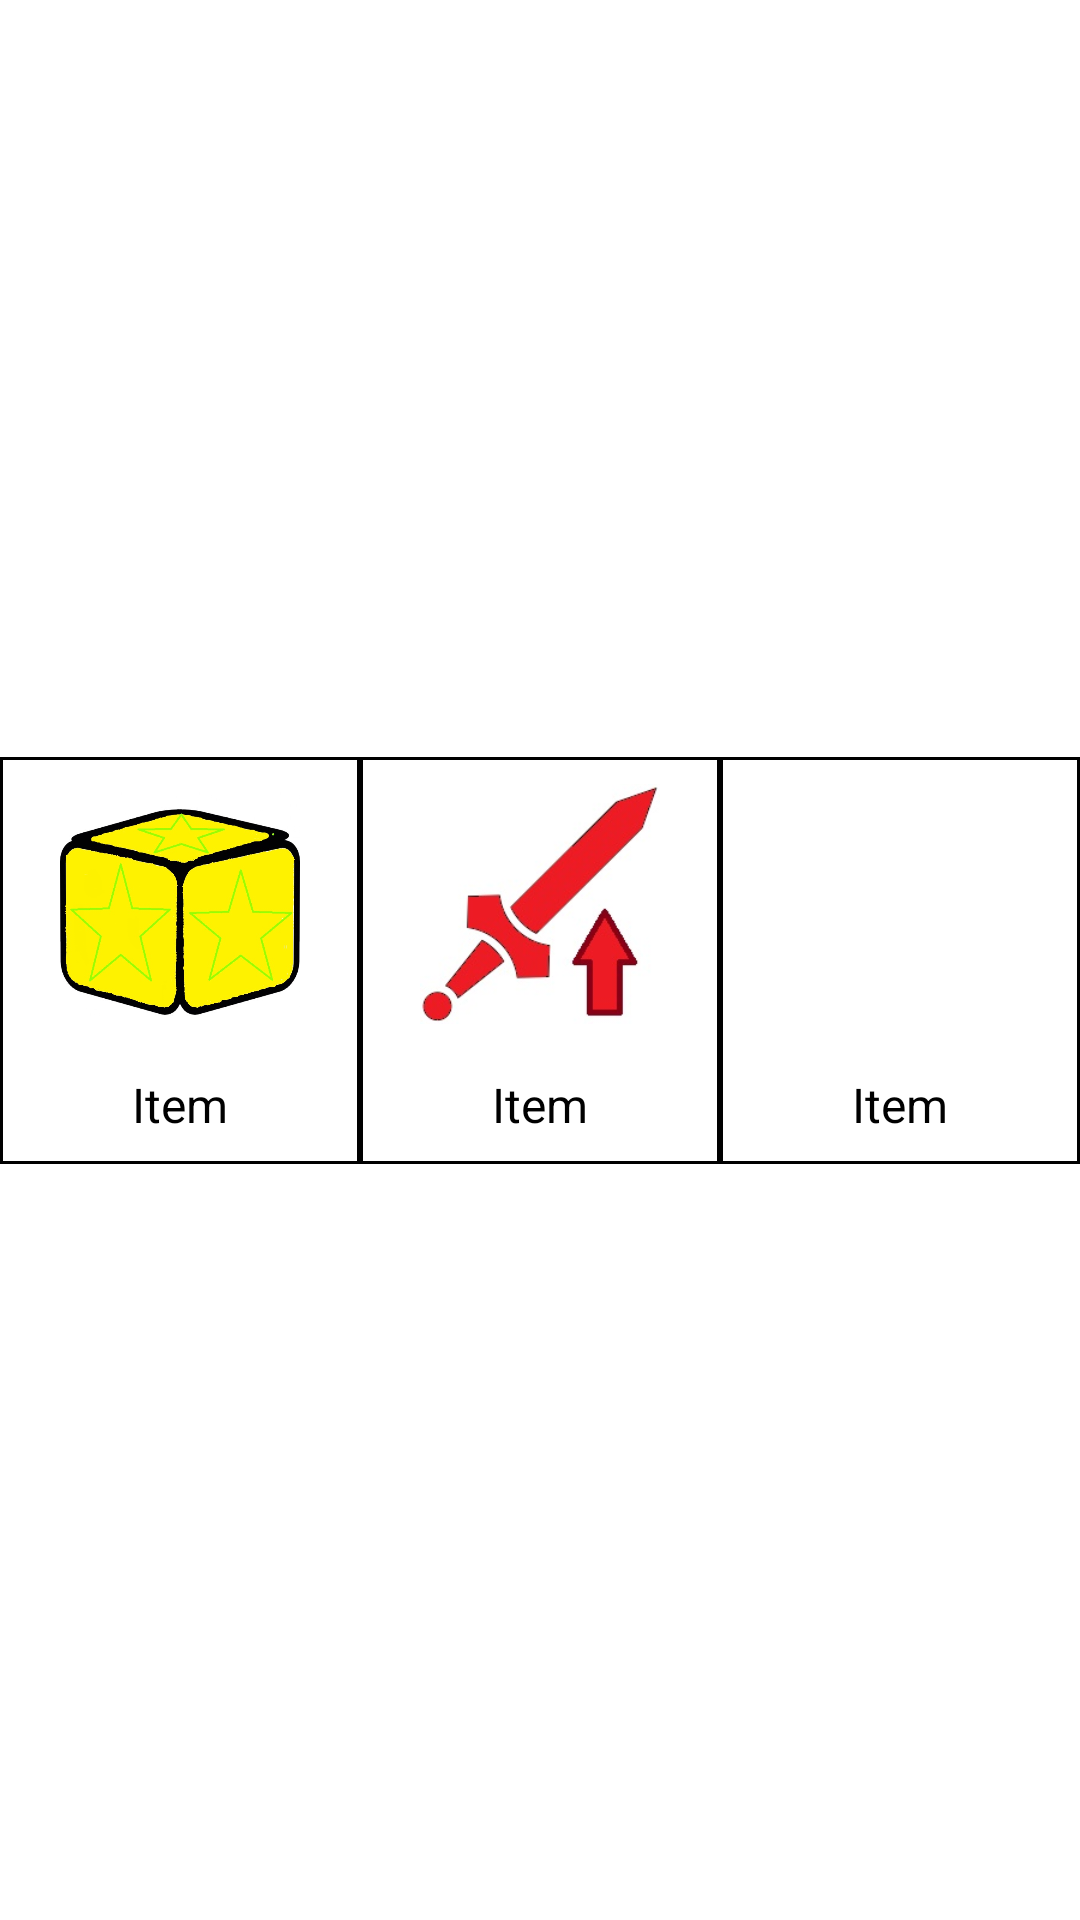

Where icons sit on this 1080x1920 app screen, as rect(x1, y1, x2, y2):
attack up: rect(422, 787, 657, 1021)
